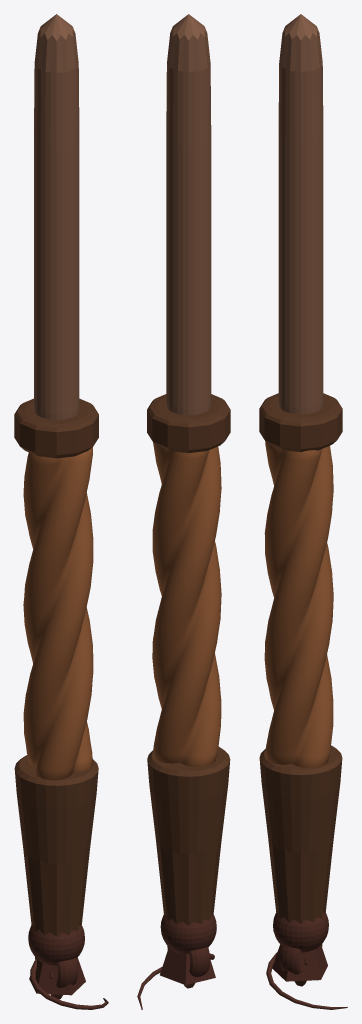
The model's file is Wand 812.glb.
3 renders of one model, left to right at view 1: azimuth 30°, elevation 25°; view 2: azimuth 210°, elevation 25°; view 3: azimuth 330°, elevation 25°, orthographic.
Visible parts, largest first — view 1: GeneratedWand, Pommel_4, Pommel_9, Pommel_10, Pommel_2; view 2: GeneratedWand, Pommel_4, Pommel_9, Pommel_2; view 3: GeneratedWand, Pommel_4, Pommel_9, Pommel_2, Pommel_10.
Boxes of the visible parts, <box> form: GeneratedWand: <box>14,14,98,936</box>; Pommel_4: <box>28,925,84,965</box>; Pommel_9: <box>29,957,85,995</box>; Pommel_10: <box>30,959,108,1009</box>; Pommel_2: <box>35,957,78,987</box>; GeneratedWand: <box>147,14,230,925</box>; Pommel_4: <box>160,914,216,953</box>; Pommel_9: <box>160,947,215,985</box>; Pommel_2: <box>167,946,209,976</box>; GeneratedWand: <box>259,14,342,923</box>; Pommel_4: <box>273,912,328,952</box>; Pommel_9: <box>272,944,327,981</box>; Pommel_2: <box>279,944,322,974</box>; Pommel_10: <box>266,952,347,1009</box>.
Bounding box in the file's own units: 0.0457 × 0.5158 × 0.0401.
